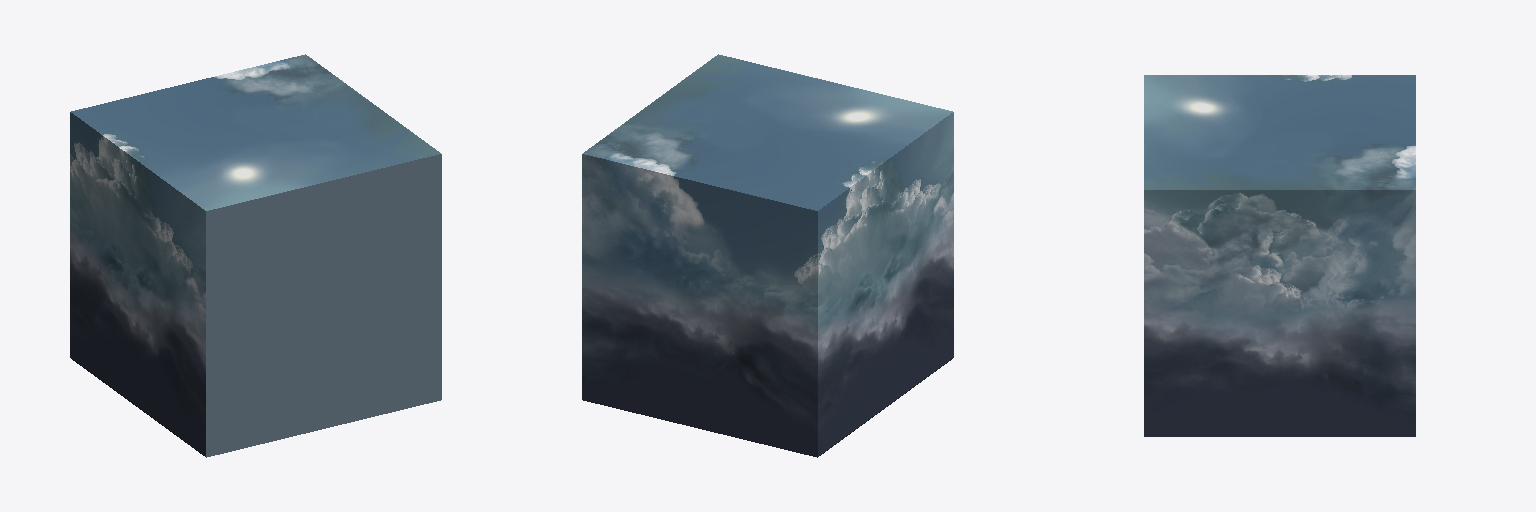
3 renders of one model, left to right at view 1: azimuth 30°, elevation 25°; view 2: azimuth 150°, elevation 25°; view 3: azimuth 270°, elevation 25°, orthographic.
Size of the model in its own units: 2 by 2 by 2.
Materials: 6 (5 with a texture image).